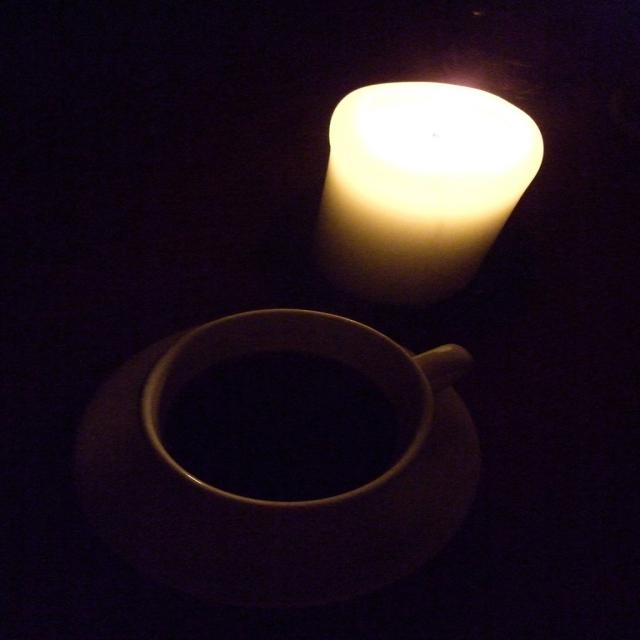Cup: (95, 289, 478, 608)
